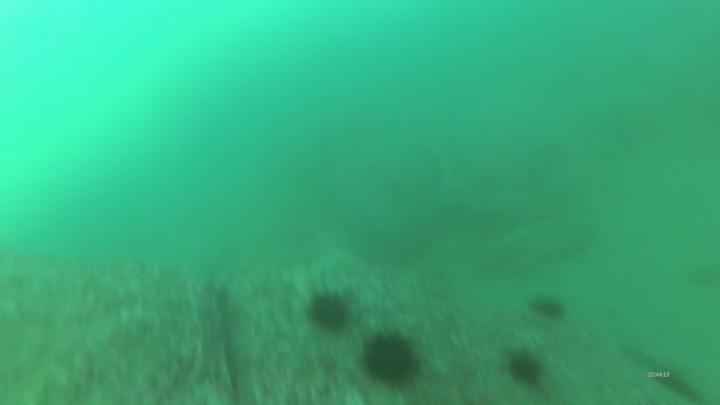echinus: (361, 329, 421, 390), (309, 287, 356, 337), (504, 342, 547, 387), (526, 294, 567, 321)
